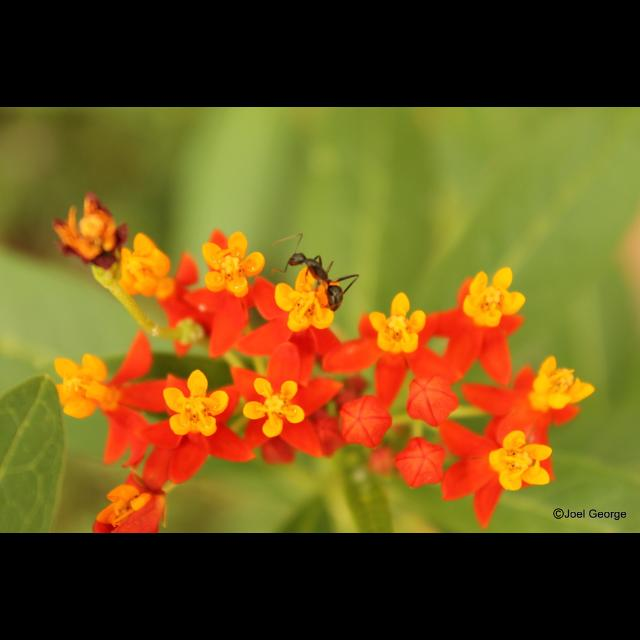Flower: (56, 195, 594, 533), (494, 436, 556, 496)
